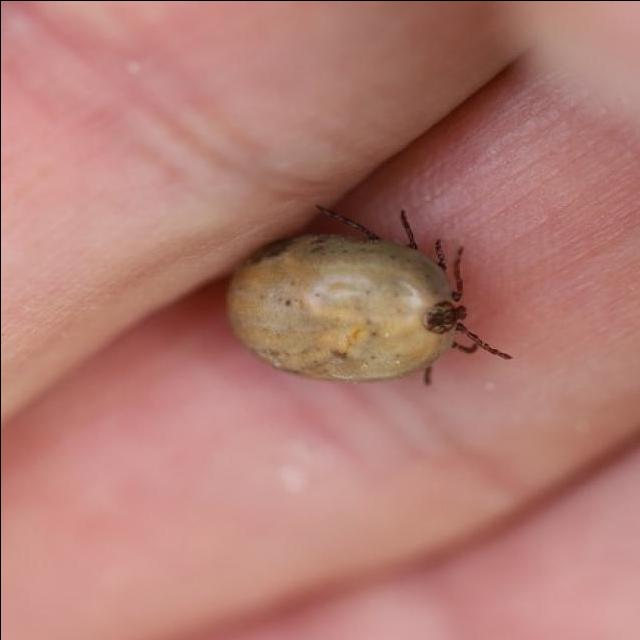Dermacentor Reticulatus-F-Fed: (225, 205, 512, 385)
